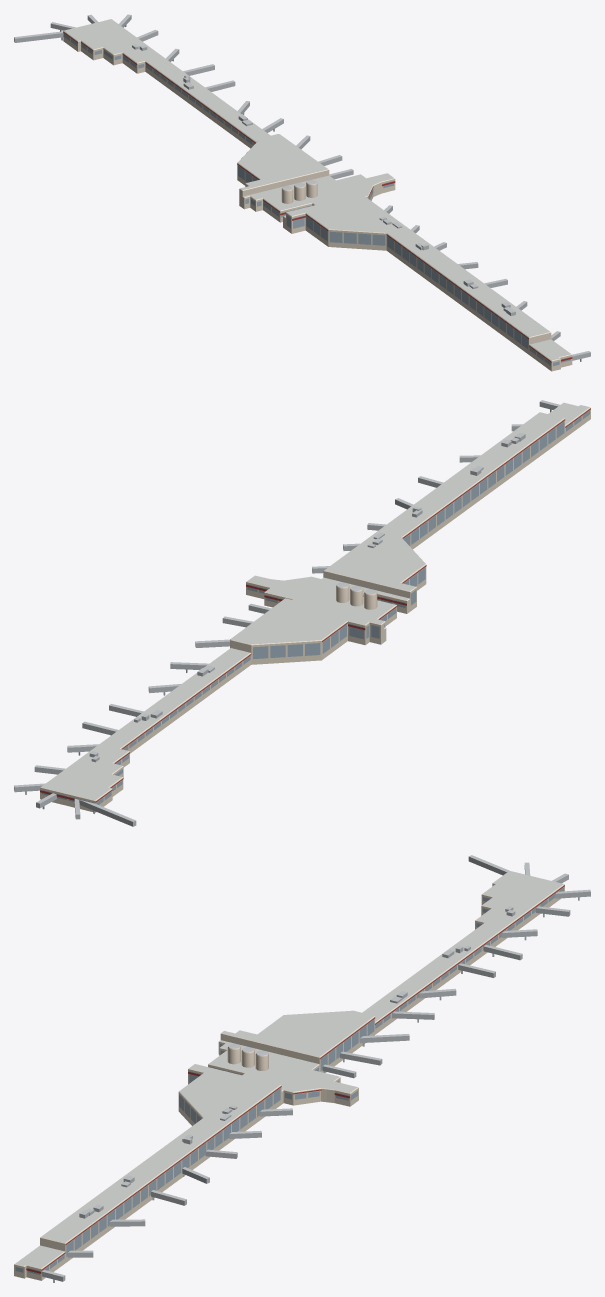
File: atl-hartsfield-jackson-concourse-t.glb
The picture shows the model from 3 angles, top to bottom: view 1: azimuth 30°, elevation 25°; view 2: azimuth 150°, elevation 25°; view 3: azimuth 330°, elevation 25°; orthographic projection. The views are drawn at different scales.
Parts seen in each view (by area): view 1: Hartsfield-Jackson Concourse T; view 2: Hartsfield-Jackson Concourse T; view 3: Hartsfield-Jackson Concourse T.
Part boxes in pixels (x1,y1,x2,y2): Hartsfield-Jackson Concourse T: (14,14,590,371); Hartsfield-Jackson Concourse T: (14,400,590,826); Hartsfield-Jackson Concourse T: (14,855,590,1282).
Size of the model in its own units: 136 by 23.6 by 808.
